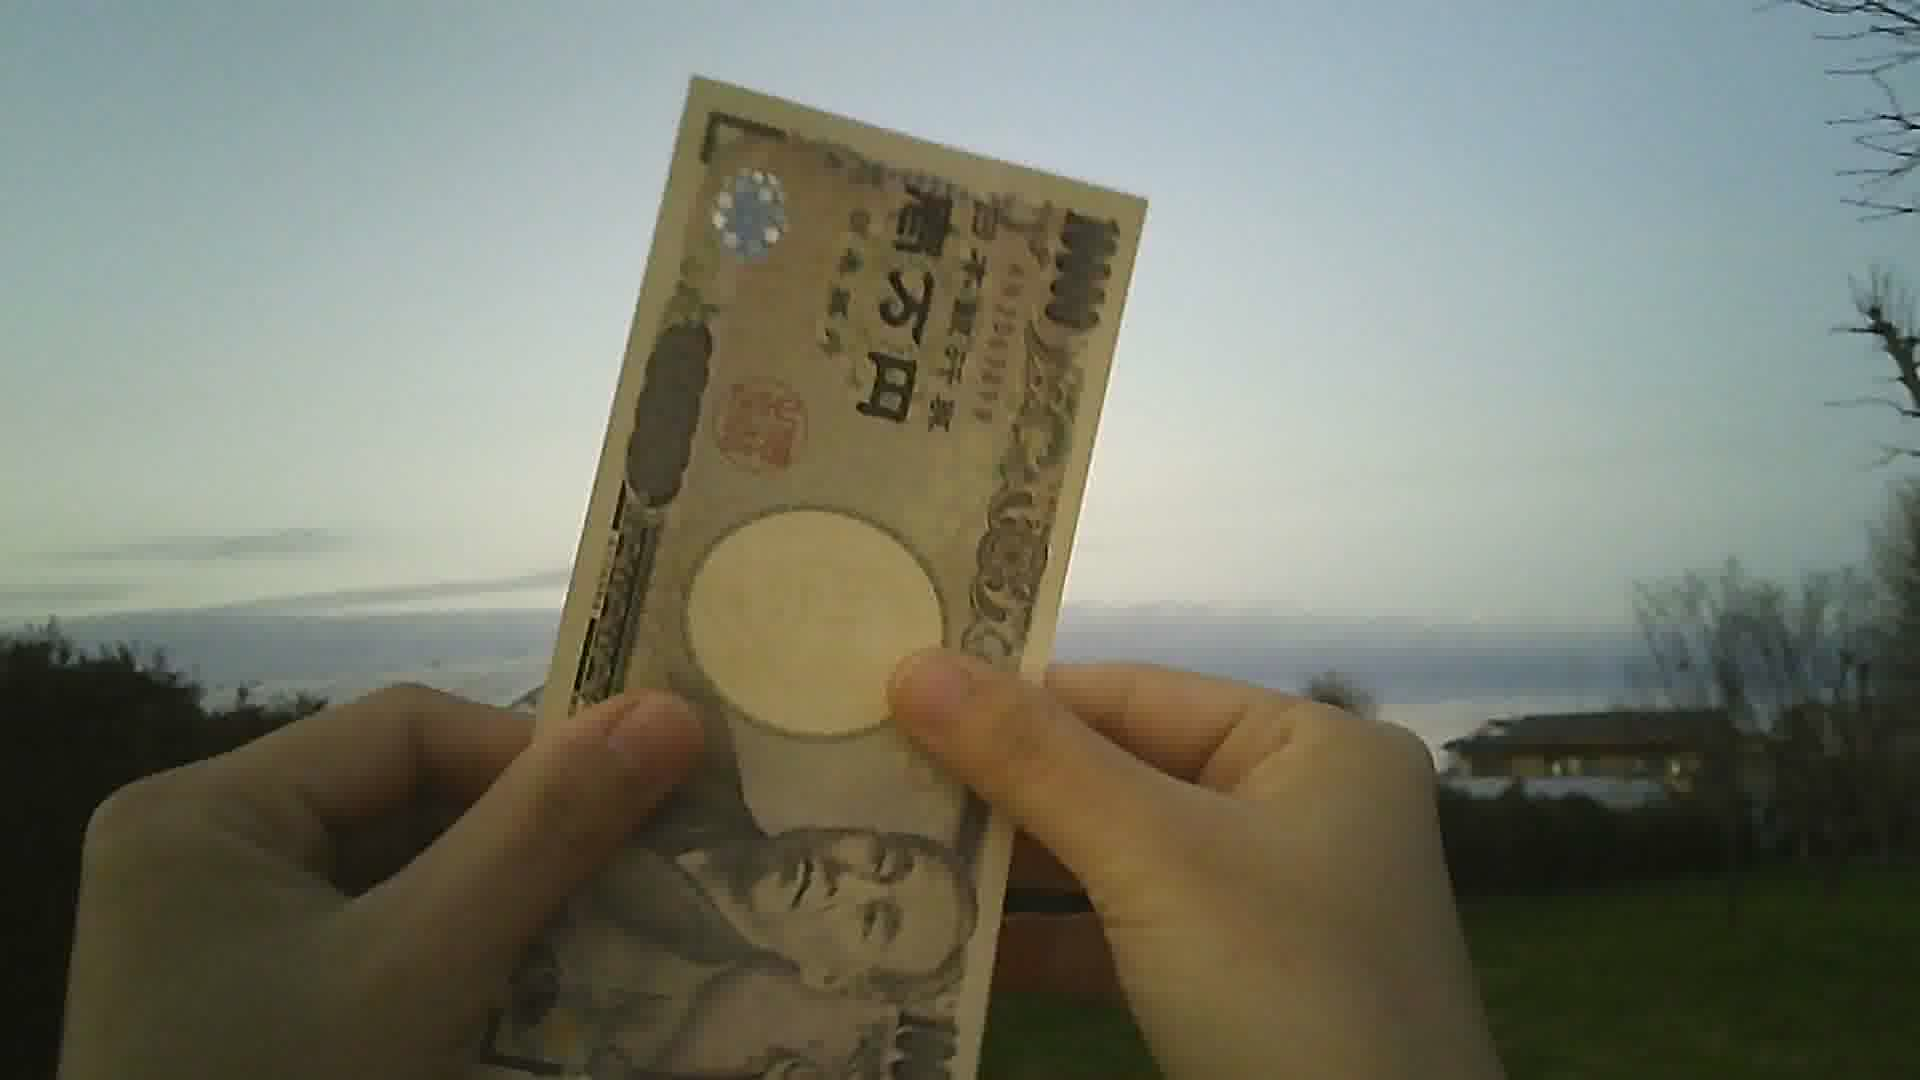10,000 Yen: (467, 51, 1154, 1079)
